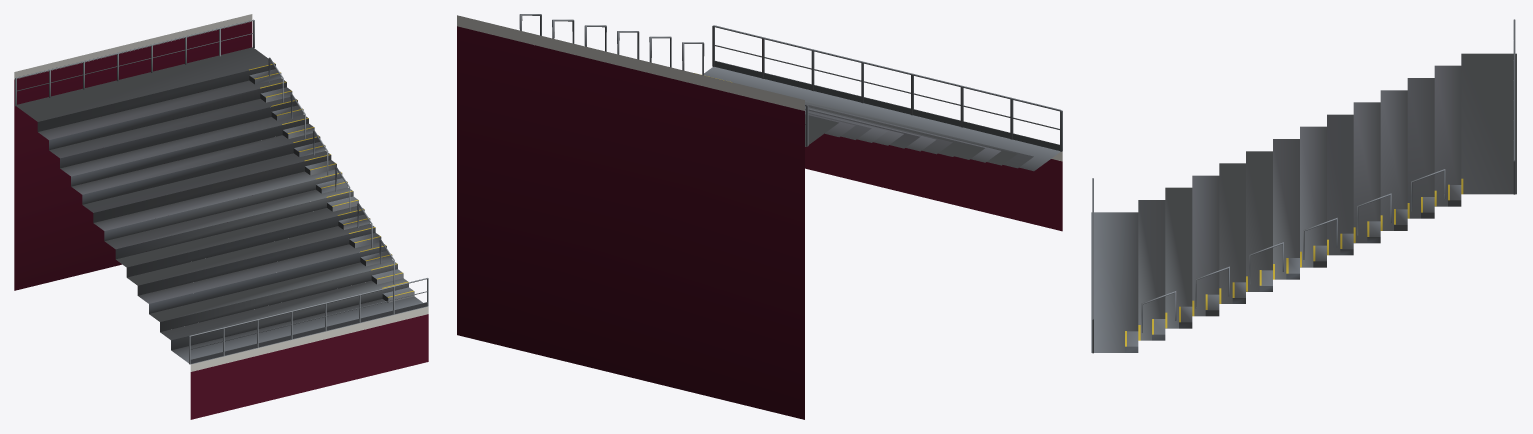
Rendered from stand_academy_kit_0.glb.
3 views of the same model, side by side, from view 1: azimuth 30°, elevation 25°; view 2: azimuth 150°, elevation 25°; view 3: azimuth 270°, elevation 25° (orthographic). The views are drawn at different scales.
Visible parts, largest first — view 1: kit_0; view 2: kit_0; view 3: kit_0.
Boxes of the visible parts, box(x1,y1,x2,y2) form: kit_0: box(14, 14, 428, 419); kit_0: box(457, 14, 1062, 419); kit_0: box(1091, 19, 1516, 353).
Bounding box in the file's own units: 9.95 × 8.7 × 12.7.
